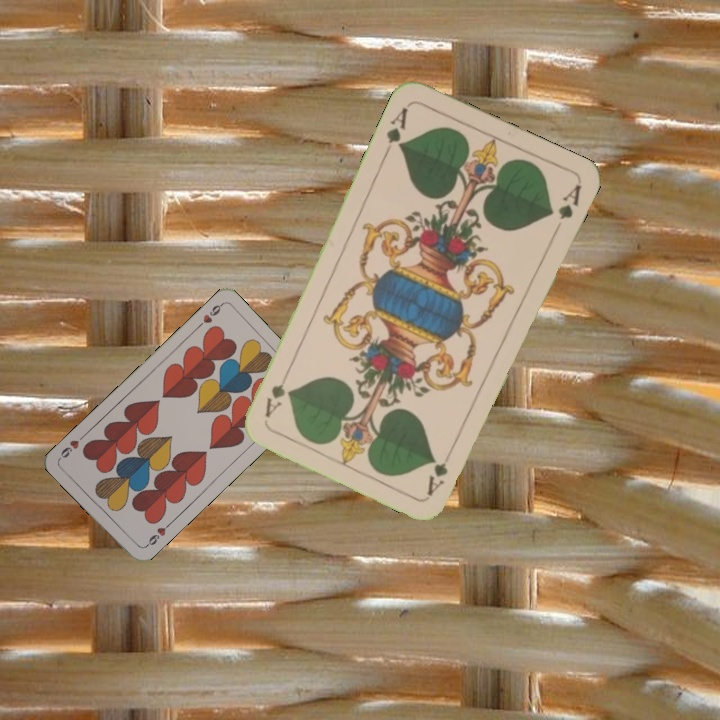GA: (380, 103, 411, 158), (423, 458, 451, 499)
H9: (193, 300, 225, 331), (141, 519, 173, 550)
